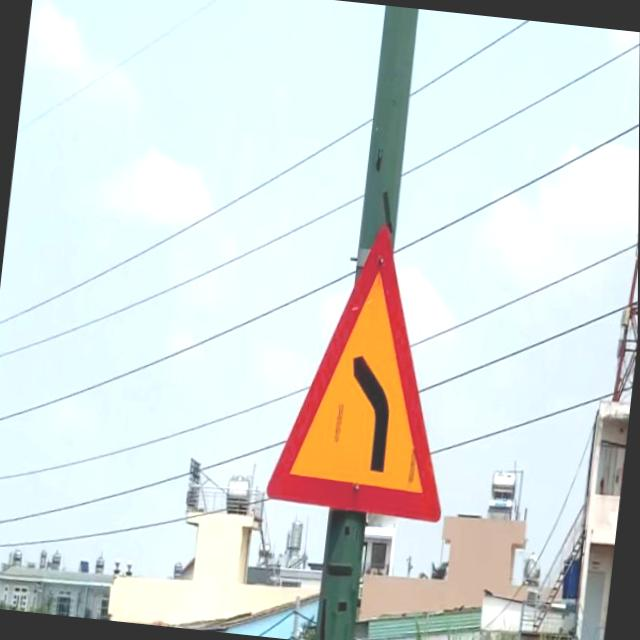cho ngoat nguy hiem vong ben trai: (257, 204, 481, 542)
